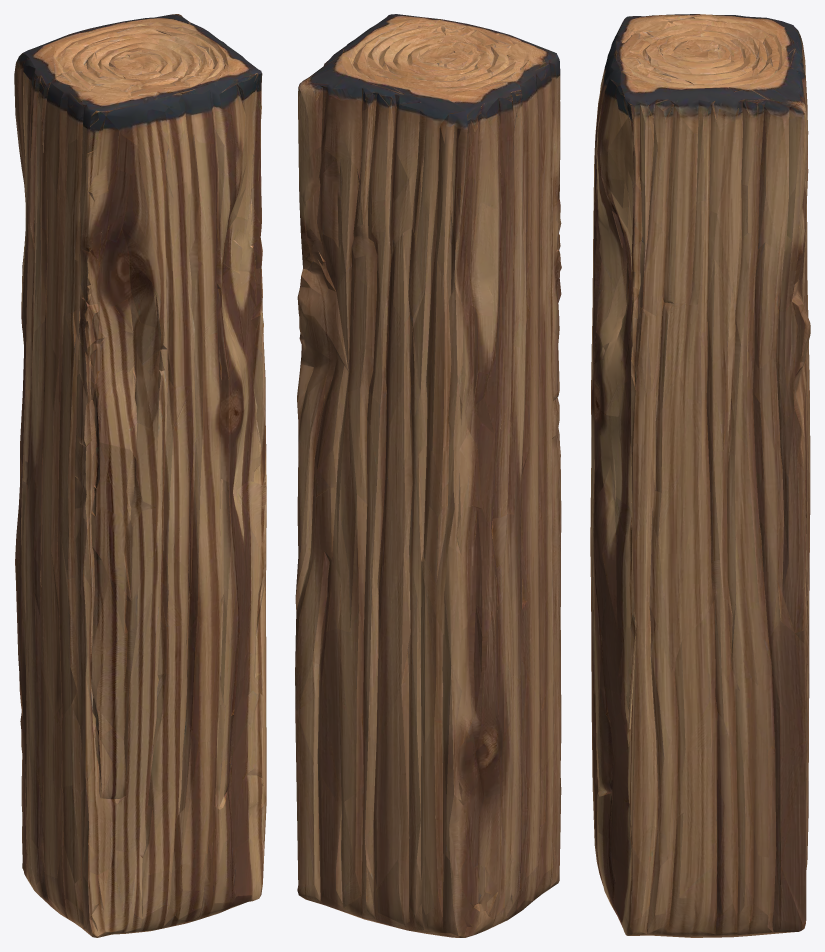
The model's file is sign_pole.glb.
3 views of the same model, side by side, from view 1: azimuth 30°, elevation 25°; view 2: azimuth 150°, elevation 25°; view 3: azimuth 270°, elevation 25° (orthographic).
Size of the model in its own units: 0.4469 by 1.9 by 0.4464.
Materials: 1 (1 with a texture image).
